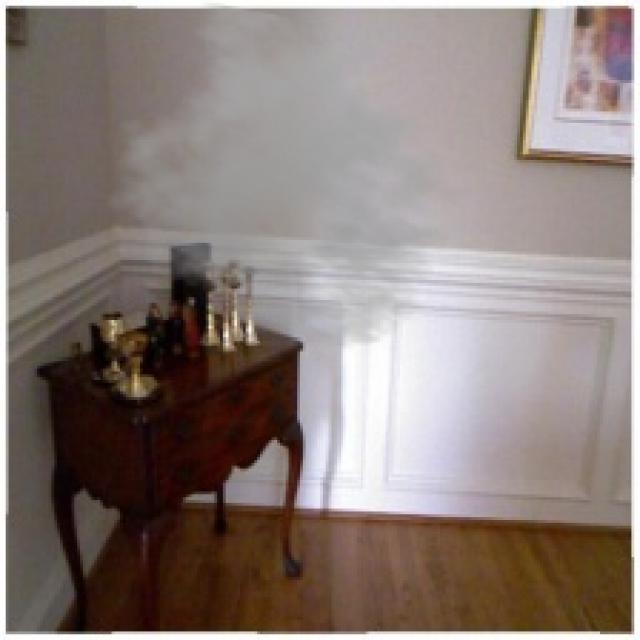smoke: (100, 0, 486, 352)
